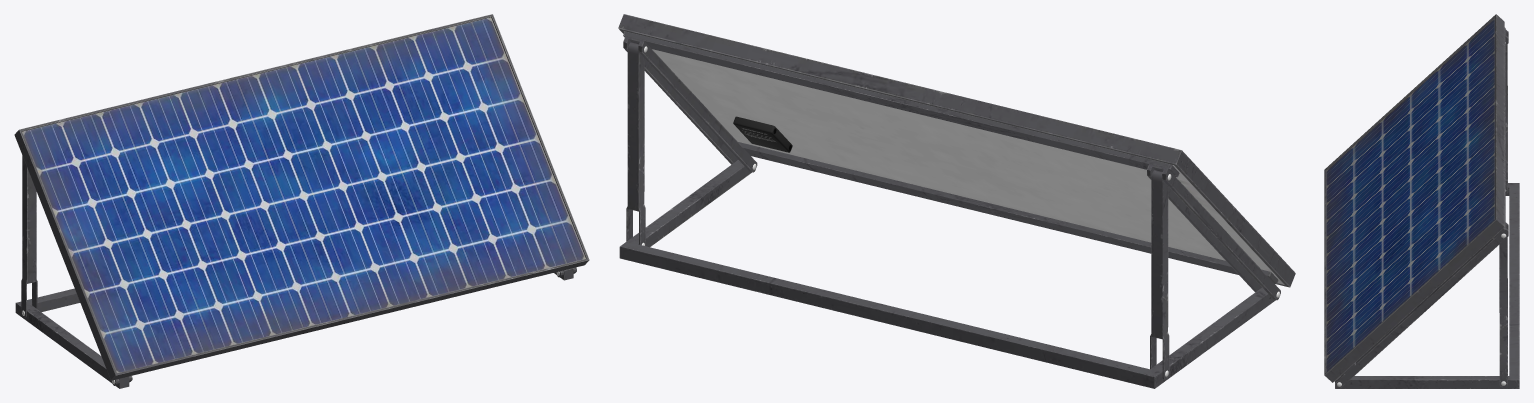
File: sf-solar.glb
The picture shows the model from 3 angles, left to right: view 1: azimuth 30°, elevation 25°; view 2: azimuth 150°, elevation 25°; view 3: azimuth 270°, elevation 25°; orthographic projection. The views are drawn at different scales.
Visible parts, largest first — view 1: SolarPanel; view 2: SolarPanel; view 3: SolarPanel.
Boxes of the visible parts, bbox=[...] form: SolarPanel: bbox=[14, 14, 589, 388]; SolarPanel: bbox=[618, 14, 1295, 388]; SolarPanel: bbox=[1324, 14, 1519, 388].
Size of the model in its own units: 165 by 65.13 by 66.43.
Materials: 1 (1 with a texture image).
